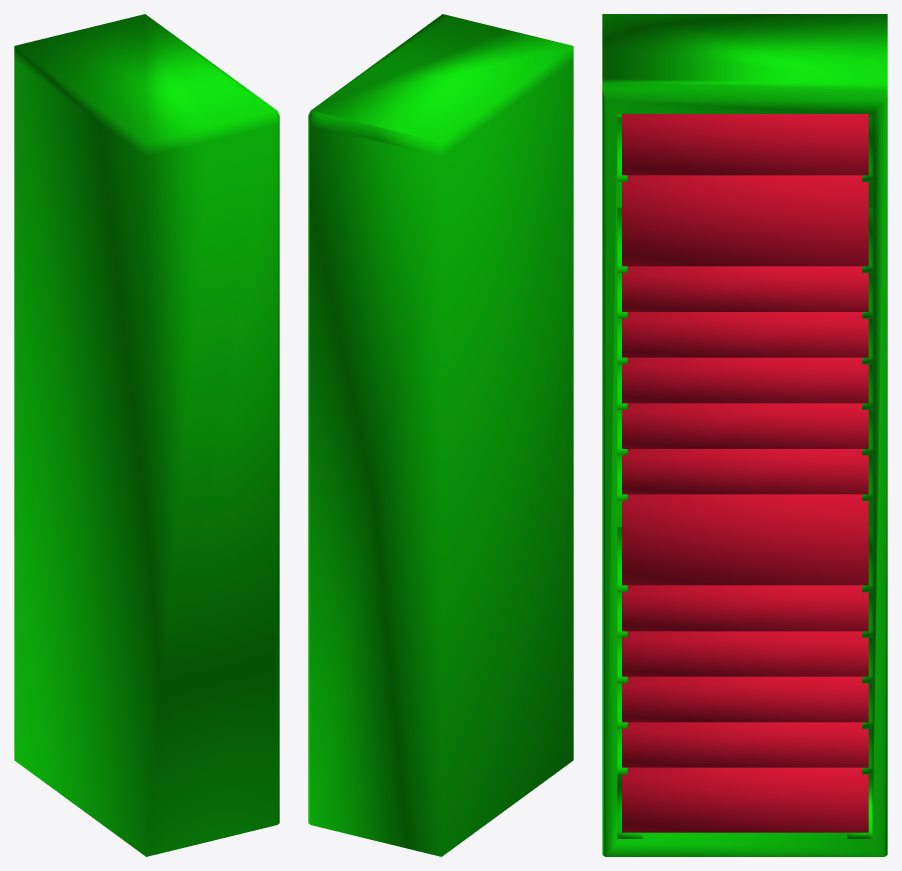
Rendered from Server.fbx.
The picture shows the model from 3 angles, left to right: view 1: azimuth 30°, elevation 25°; view 2: azimuth 150°, elevation 25°; view 3: azimuth 270°, elevation 25°; orthographic projection. The views are drawn at different scales.
Visible parts, largest first — view 1: rack; view 2: rack; view 3: rack, 2u_nas1, ups, misc1, misc2, 1u_server4, 1u_server7, 1u_server2, 1u_server8, 1u_server5, 1u_server3, 1u_server9 (+2 smaller).
Boxes of the visible parts, left/top/right/bottom form: rack: left=14, top=14, right=279, bottom=856; rack: left=308, top=14, right=573, bottom=856; rack: left=602, top=14, right=887, bottom=856; 2u_nas1: left=622, top=494, right=868, bottom=585; ups: left=622, top=175, right=868, bottom=266; misc1: left=622, top=767, right=868, bottom=832; misc2: left=622, top=114, right=868, bottom=175; 1u_server4: left=622, top=585, right=868, bottom=631; 1u_server7: left=622, top=357, right=868, bottom=403; 1u_server2: left=622, top=676, right=868, bottom=722; 1u_server8: left=622, top=312, right=868, bottom=357; 1u_server5: left=622, top=449, right=868, bottom=494; 1u_server3: left=622, top=631, right=868, bottom=676; 1u_server9: left=622, top=266, right=868, bottom=311.
Size of the model in its own units: 63.41 by 321 by 108.
